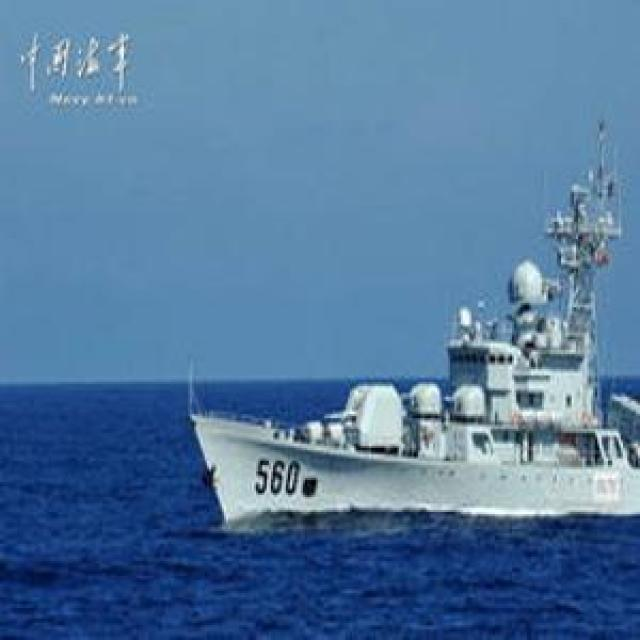navalvessels: (147, 79, 637, 530)
